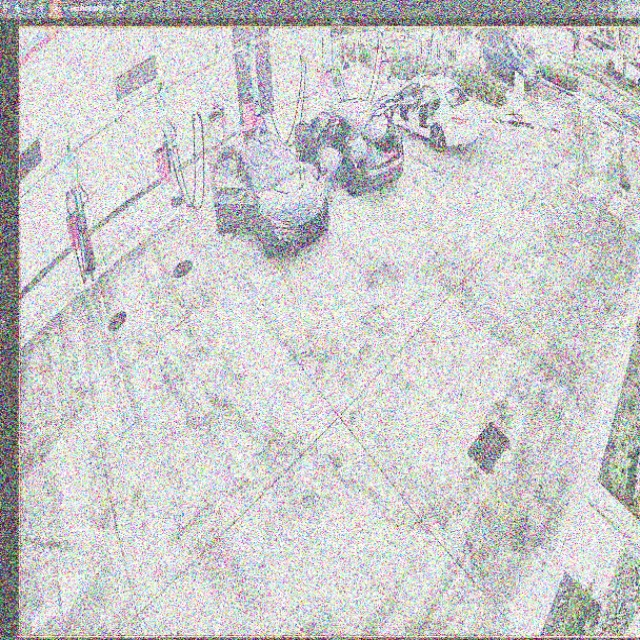Car: (207, 121, 330, 258), (294, 94, 402, 193), (373, 73, 480, 149)
